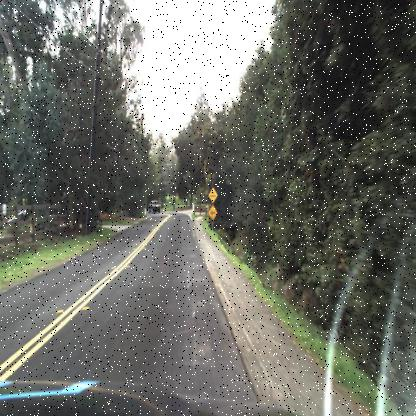car: (149, 200, 161, 214)
